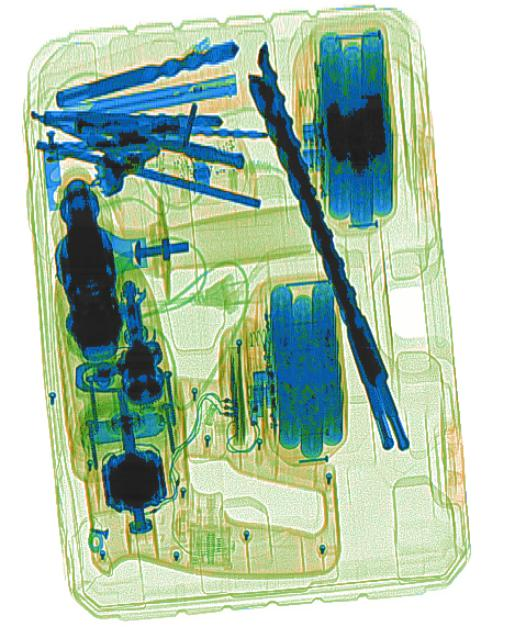battery: (293, 18, 398, 234), (265, 279, 345, 461)
knife: (57, 71, 240, 127)
